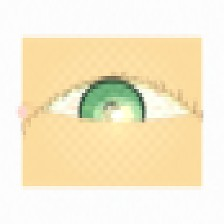corneal_ulcer: (92, 95, 143, 136)
